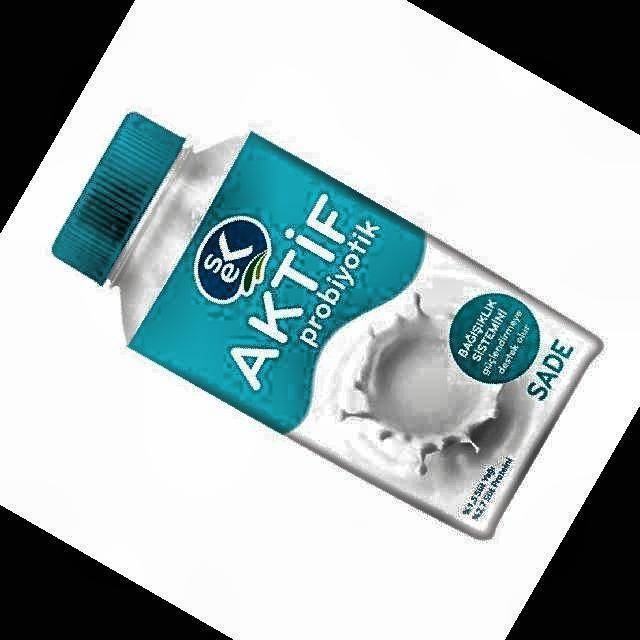plastic: (52, 112, 601, 538)
